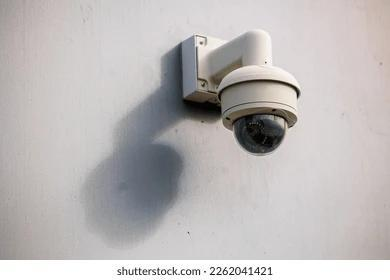360-Cam: (212, 64, 307, 160)
